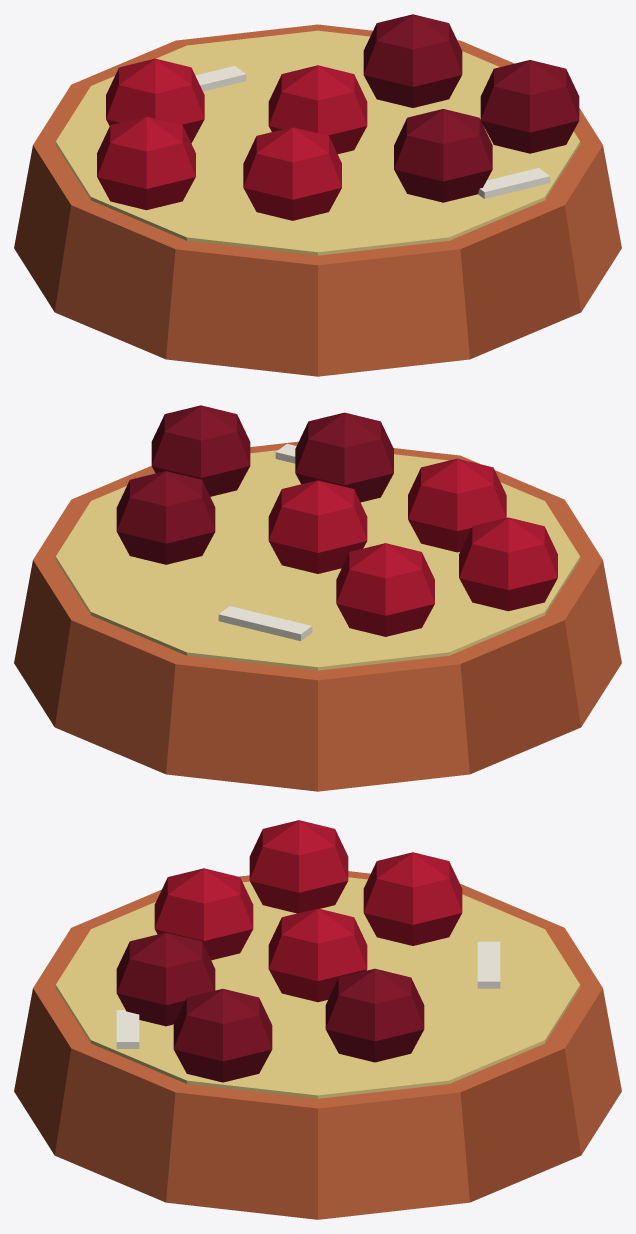
The model's file is cherryClafoutis.glb.
3 views of the same model, one above another, from view 1: azimuth 30°, elevation 25°; view 2: azimuth 150°, elevation 25°; view 3: azimuth 270°, elevation 25° (orthographic).
Parts seen in each view (by area): view 1: cherryClafoutis; view 2: cherryClafoutis; view 3: cherryClafoutis.
Boxes of the visible parts, x1,y1,x2,y2 form: cherryClafoutis: [14, 14, 621, 376]; cherryClafoutis: [14, 405, 621, 791]; cherryClafoutis: [14, 820, 621, 1219].
Size of the model in its own units: 0.32 by 0.106 by 0.32.
Materials: 1 (1 with a texture image).
